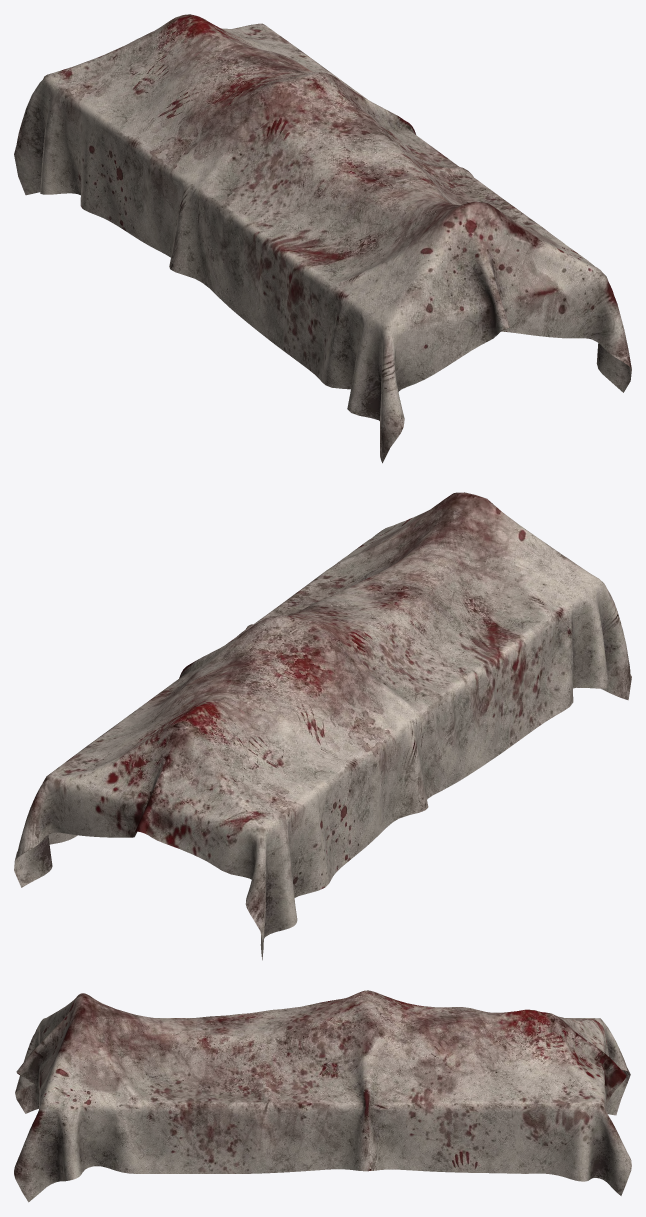
File: prop_corpse.glb
3 renders of one model, top to bottom at view 1: azimuth 30°, elevation 25°; view 2: azimuth 150°, elevation 25°; view 3: azimuth 270°, elevation 25°, orthographic. The views are drawn at different scales.
Visible parts, largest first — view 1: defaultMaterial; view 2: defaultMaterial; view 3: defaultMaterial.
Part boxes in pixels (x1,y1,x2,y2): defaultMaterial: (14,14,631,463); defaultMaterial: (14,492,631,960); defaultMaterial: (14,990,631,1202).
Bounding box in the file's own units: 0.7273 × 0.5324 × 1.8.
Materials: 1 (1 with a texture image).
